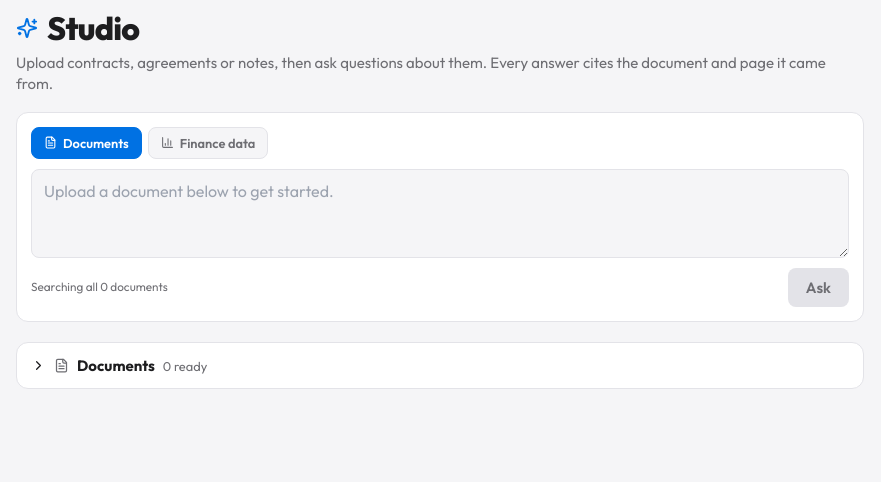
Studio data mode › can ask about data with no documents uploaded
Click the tab "Finance data": (208, 142) [148, 126, 268, 158]
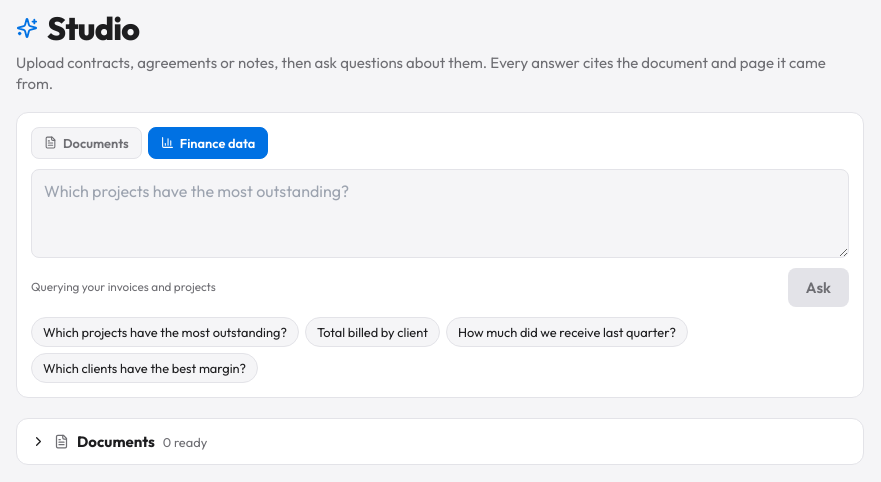
In the text box named "Your question": (440, 213) [31, 168, 849, 258], type "total billed"
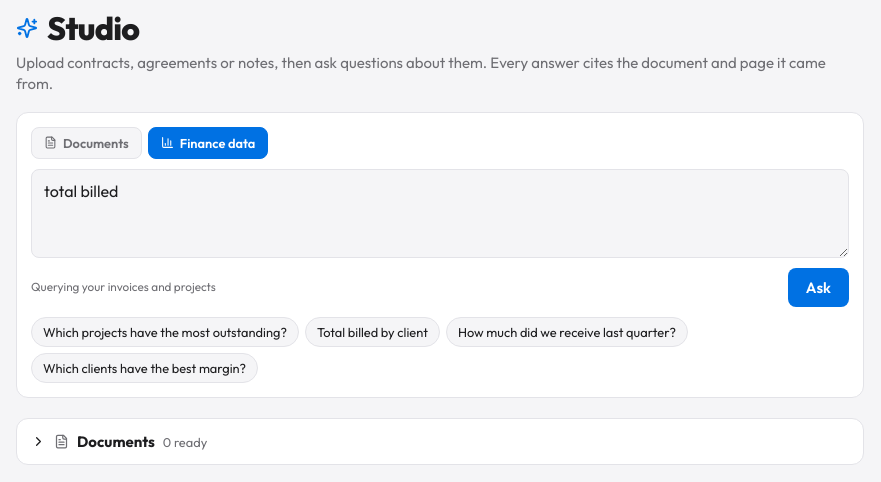
Expected: the button "Ask" is enabled, [788, 268, 849, 307]
